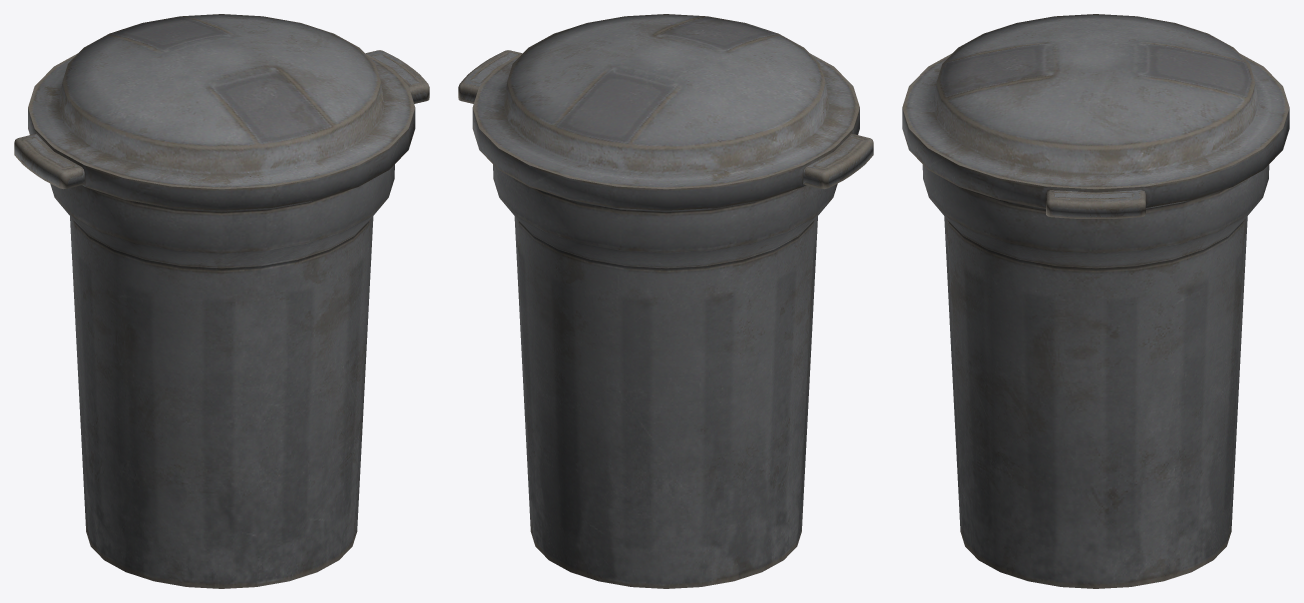
Rendered from Garbage_Can_02.fbx.
3 views of the same model, side by side, from view 1: azimuth 30°, elevation 25°; view 2: azimuth 150°, elevation 25°; view 3: azimuth 270°, elevation 25° (orthographic).
Visible parts, largest first — view 1: Garbage_Can_02_LOD0; view 2: Garbage_Can_02_LOD0; view 3: Garbage_Can_02_LOD0.
Boxes of the visible parts, x1,y1,x2,y2 form: Garbage_Can_02_LOD0: (14,14,429,588); Garbage_Can_02_LOD0: (458,14,873,588); Garbage_Can_02_LOD0: (902,14,1289,588).
Size of what is drawn, in the model's own units: 74.02 by 88.73 by 65.69.
